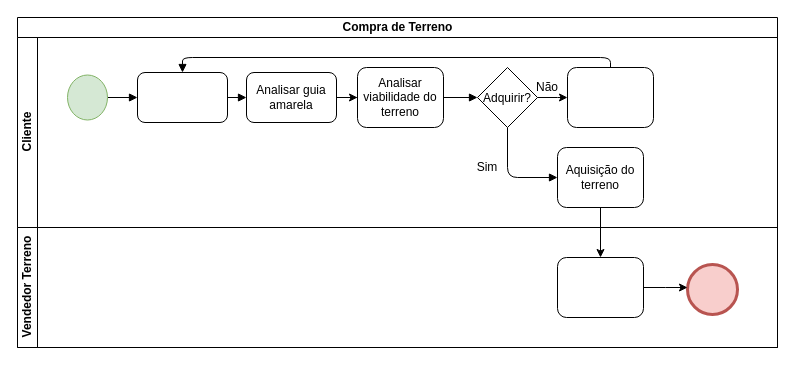
This 795x365 diagram has some shape labels left out. The centre of each missing label's shape, as x and y in pixels:
"Compra e Registro do Terreno" goes at point (600, 287).
"Descartar possibilidade de compra" goes at point (610, 97).
"Procurar Terreno" goes at point (182, 97).
